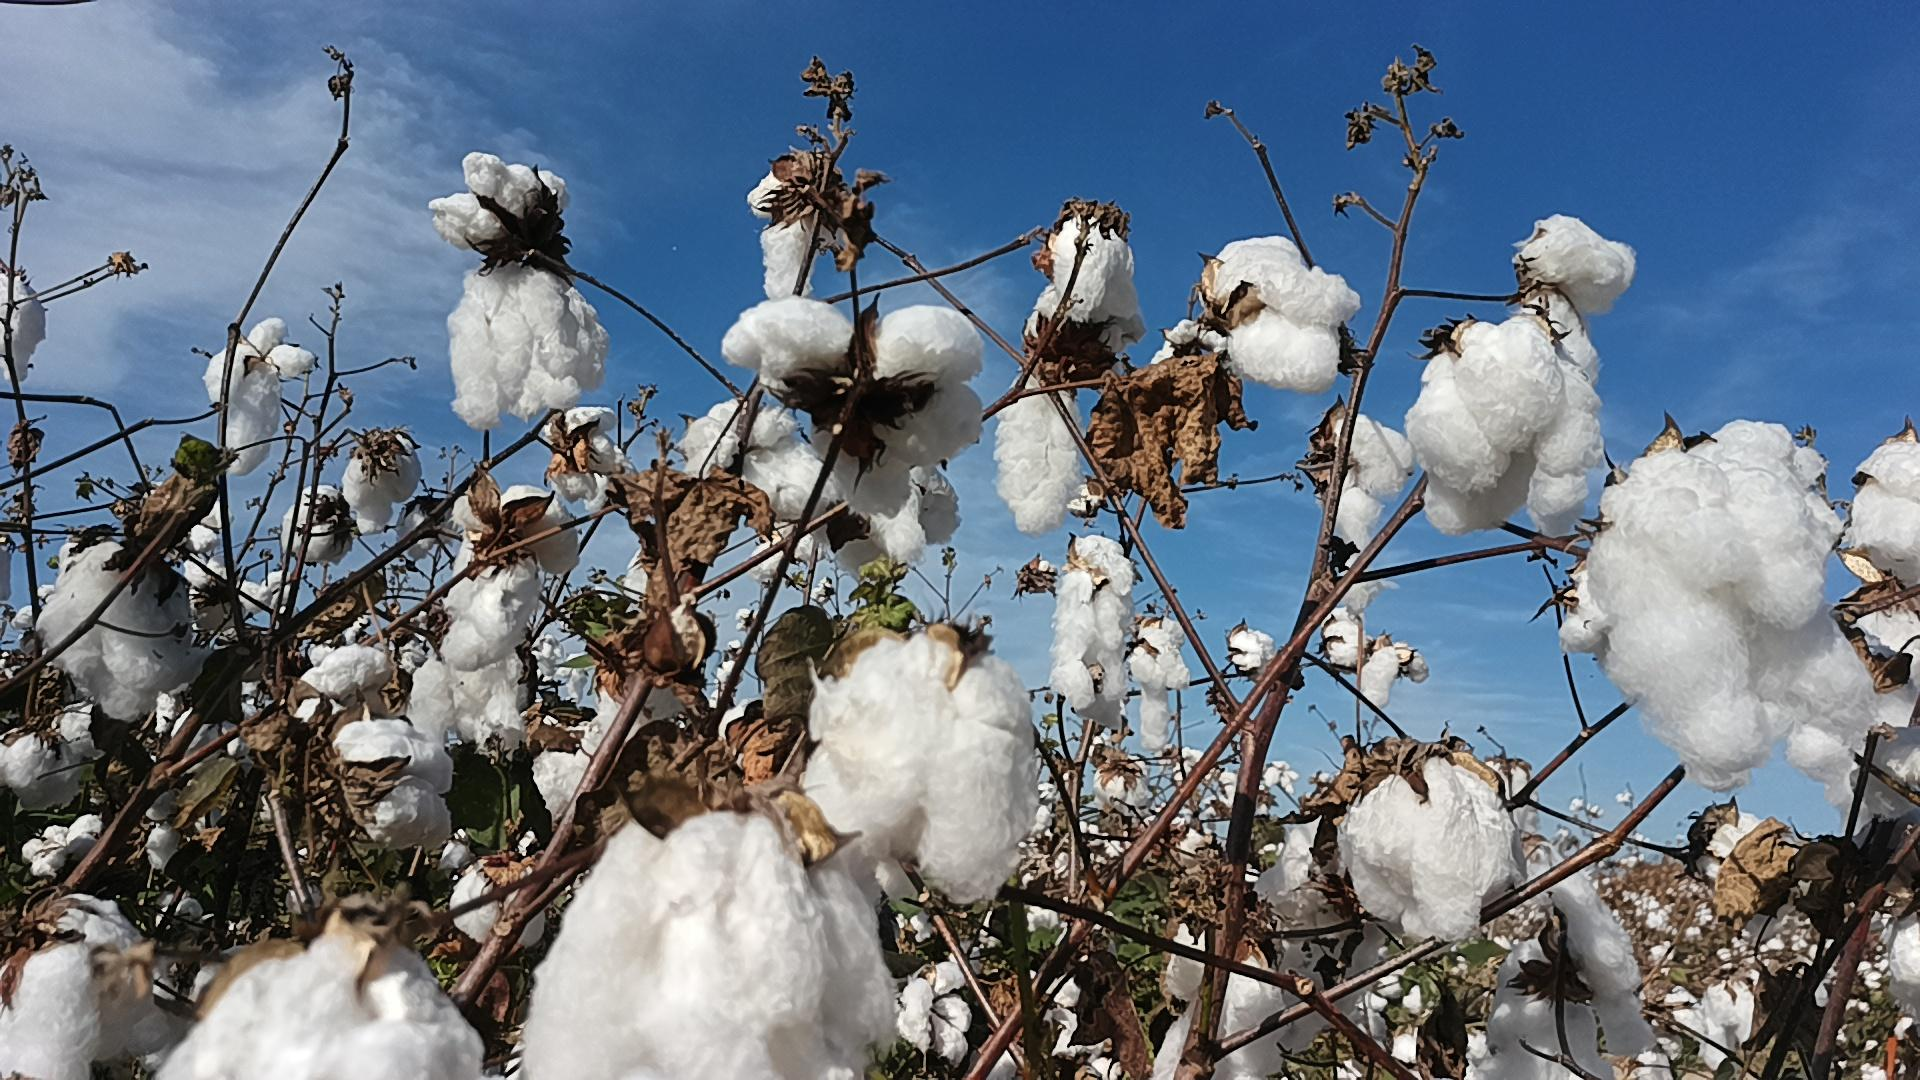cotton_ready: (1585, 423, 1878, 803), (522, 811, 903, 1079), (811, 636, 1039, 903), (720, 295, 990, 518), (429, 156, 609, 430), (150, 935, 488, 1080), (1410, 323, 1609, 535), (1478, 872, 1664, 1080), (531, 605, 699, 816), (0, 894, 178, 1080), (1342, 753, 1515, 943), (40, 537, 206, 720), (1251, 818, 1382, 1048), (439, 488, 585, 674), (1205, 235, 1366, 388), (1147, 919, 1288, 1080), (1518, 210, 1634, 389), (682, 404, 852, 524), (206, 315, 322, 483), (808, 464, 964, 582), (406, 636, 535, 757), (335, 717, 454, 848), (1055, 531, 1135, 703), (1001, 375, 1077, 535), (1046, 203, 1142, 323), (1855, 608, 1920, 786), (750, 152, 825, 301), (1850, 436, 1920, 592), (1336, 413, 1408, 550), (545, 405, 633, 514), (1130, 605, 1185, 753), (294, 644, 396, 724), (451, 862, 546, 948), (340, 434, 419, 534), (901, 956, 969, 1068), (0, 727, 78, 812), (284, 488, 356, 562), (25, 812, 104, 876), (0, 266, 41, 385), (1149, 320, 1230, 368), (1890, 923, 1920, 1013)
